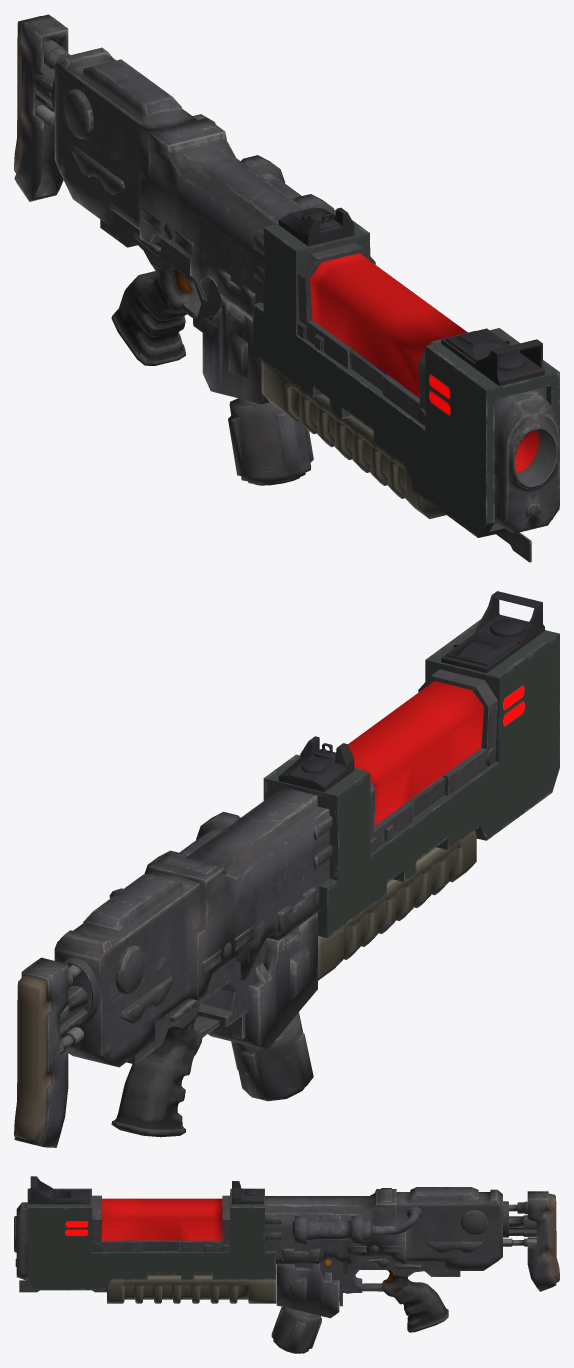
File: EnergyRifle.gltf
3 views of the same model, one above another, from view 1: azimuth 30°, elevation 25°; view 2: azimuth 150°, elevation 25°; view 3: azimuth 270°, elevation 25° (orthographic). The views are drawn at different scales.
Parts seen in each view (by area): view 1: energy rifle; view 2: energy rifle; view 3: energy rifle.
Part boxes in pixels (left/top/right/bottom): energy rifle: left=14, top=14, right=559, bottom=562; energy rifle: left=14, top=591, right=559, bottom=1147; energy rifle: left=14, top=1176, right=559, bottom=1353.
Bounding box in the file's own units: 0.0826 × 0.2424 × 0.7128.
3 materials, 3 textured.
